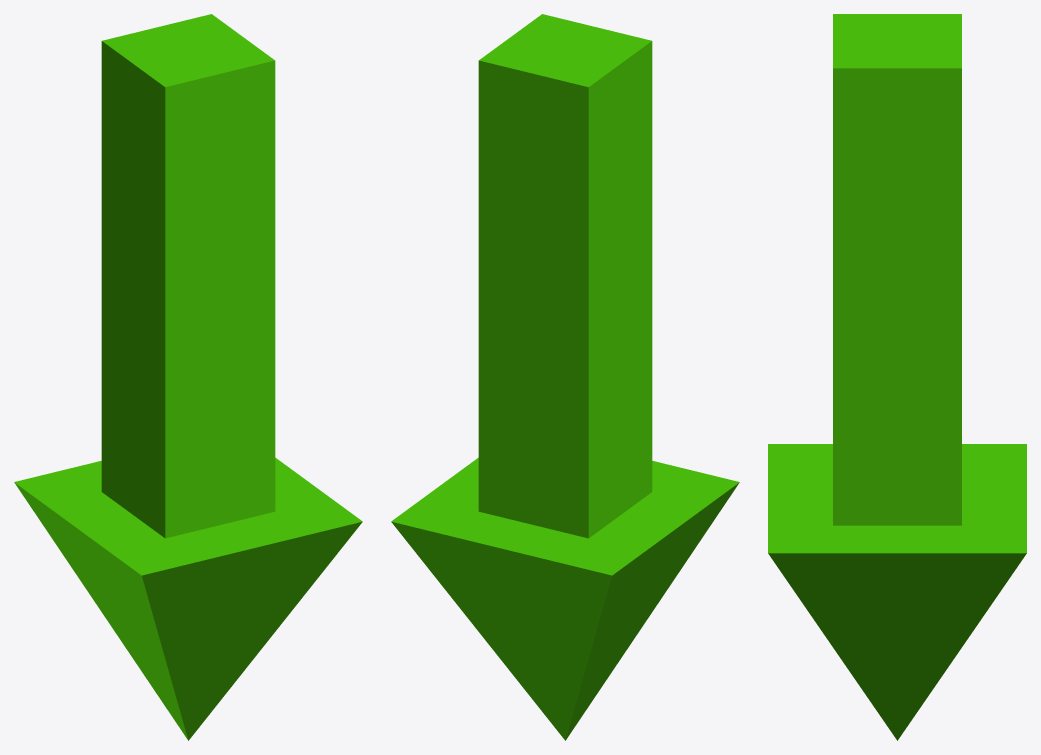
File: spawn_place_arrow.FBX
3 renders of one model, left to right at view 1: azimuth 30°, elevation 25°; view 2: azimuth 150°, elevation 25°; view 3: azimuth 270°, elevation 25°, orthographic.
Visible parts, largest first — view 1: Box001; view 2: Box001; view 3: Box001.
Boxes of the visible parts, x1=… form: Box001: x1=14, y1=14, x2=362, y2=740; Box001: x1=391, y1=14, x2=739, y2=740; Box001: x1=768, y1=14, x2=1026, y2=740.
Size of the model in its own units: 20.12 by 20.12 by 60.
